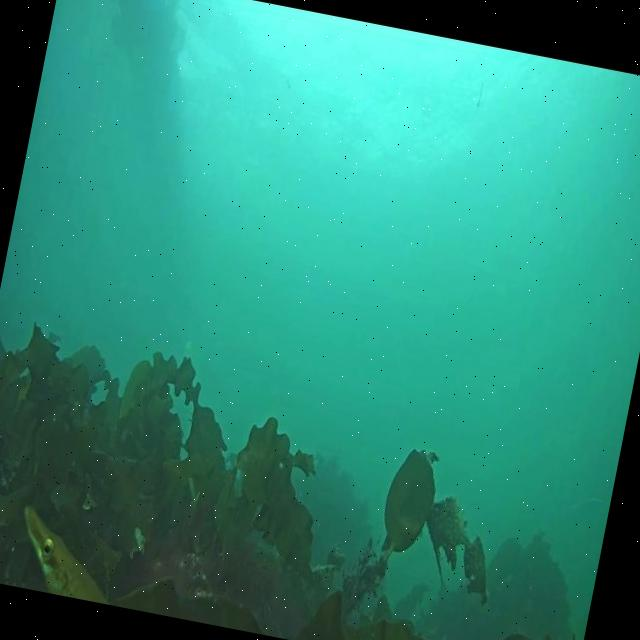fish: (8, 506, 118, 602)
